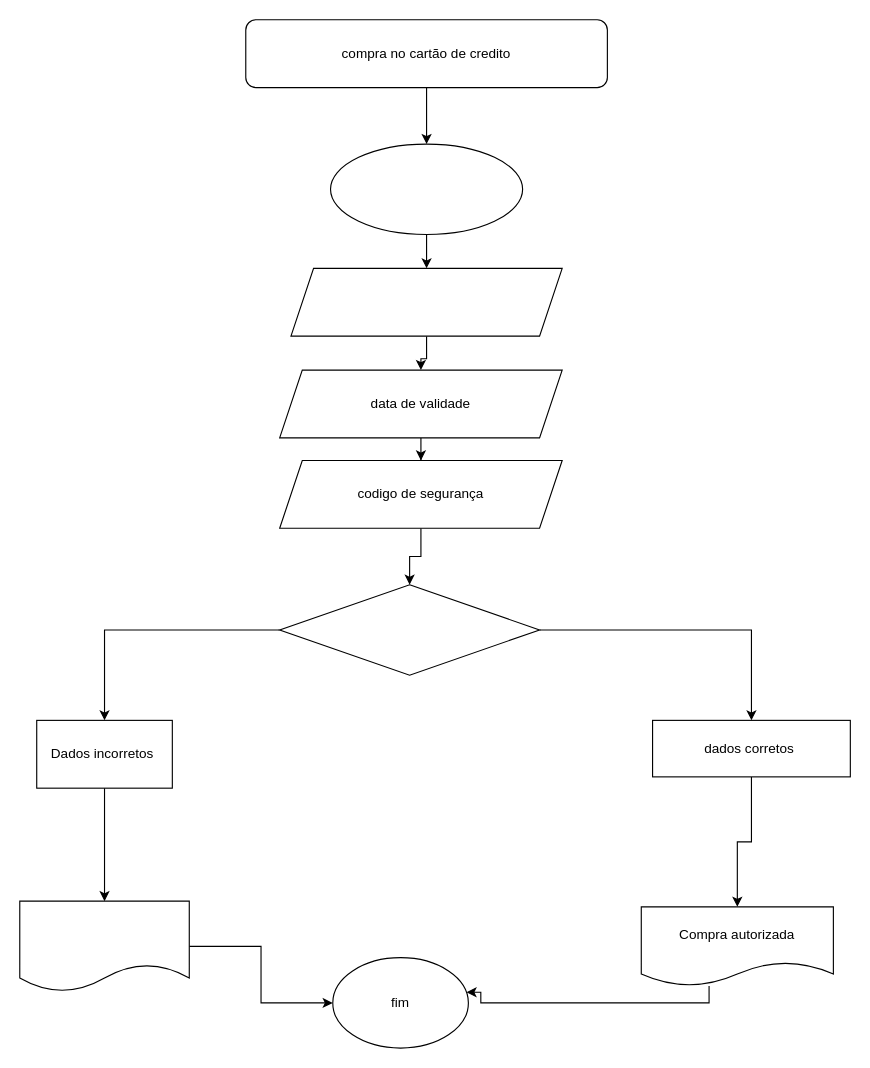
Some shapes in this 870 by 1068 pixel diagram are drawn without their labels. Each missing label, with the centre of its shape:
"Compra nao autorizada" belongs at point (104, 946).
"Dados estão corretos ?" belongs at point (409, 629).
"inicio" belongs at point (426, 188).
"Numero do cartao" belongs at point (426, 301).
